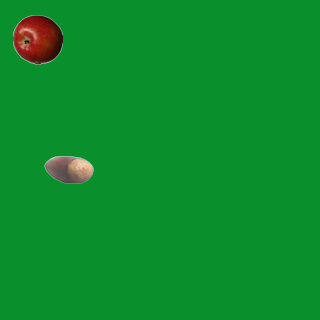Apple Braeburn: (12, 14, 62, 64)
Hazelnut: (43, 144, 93, 194)
